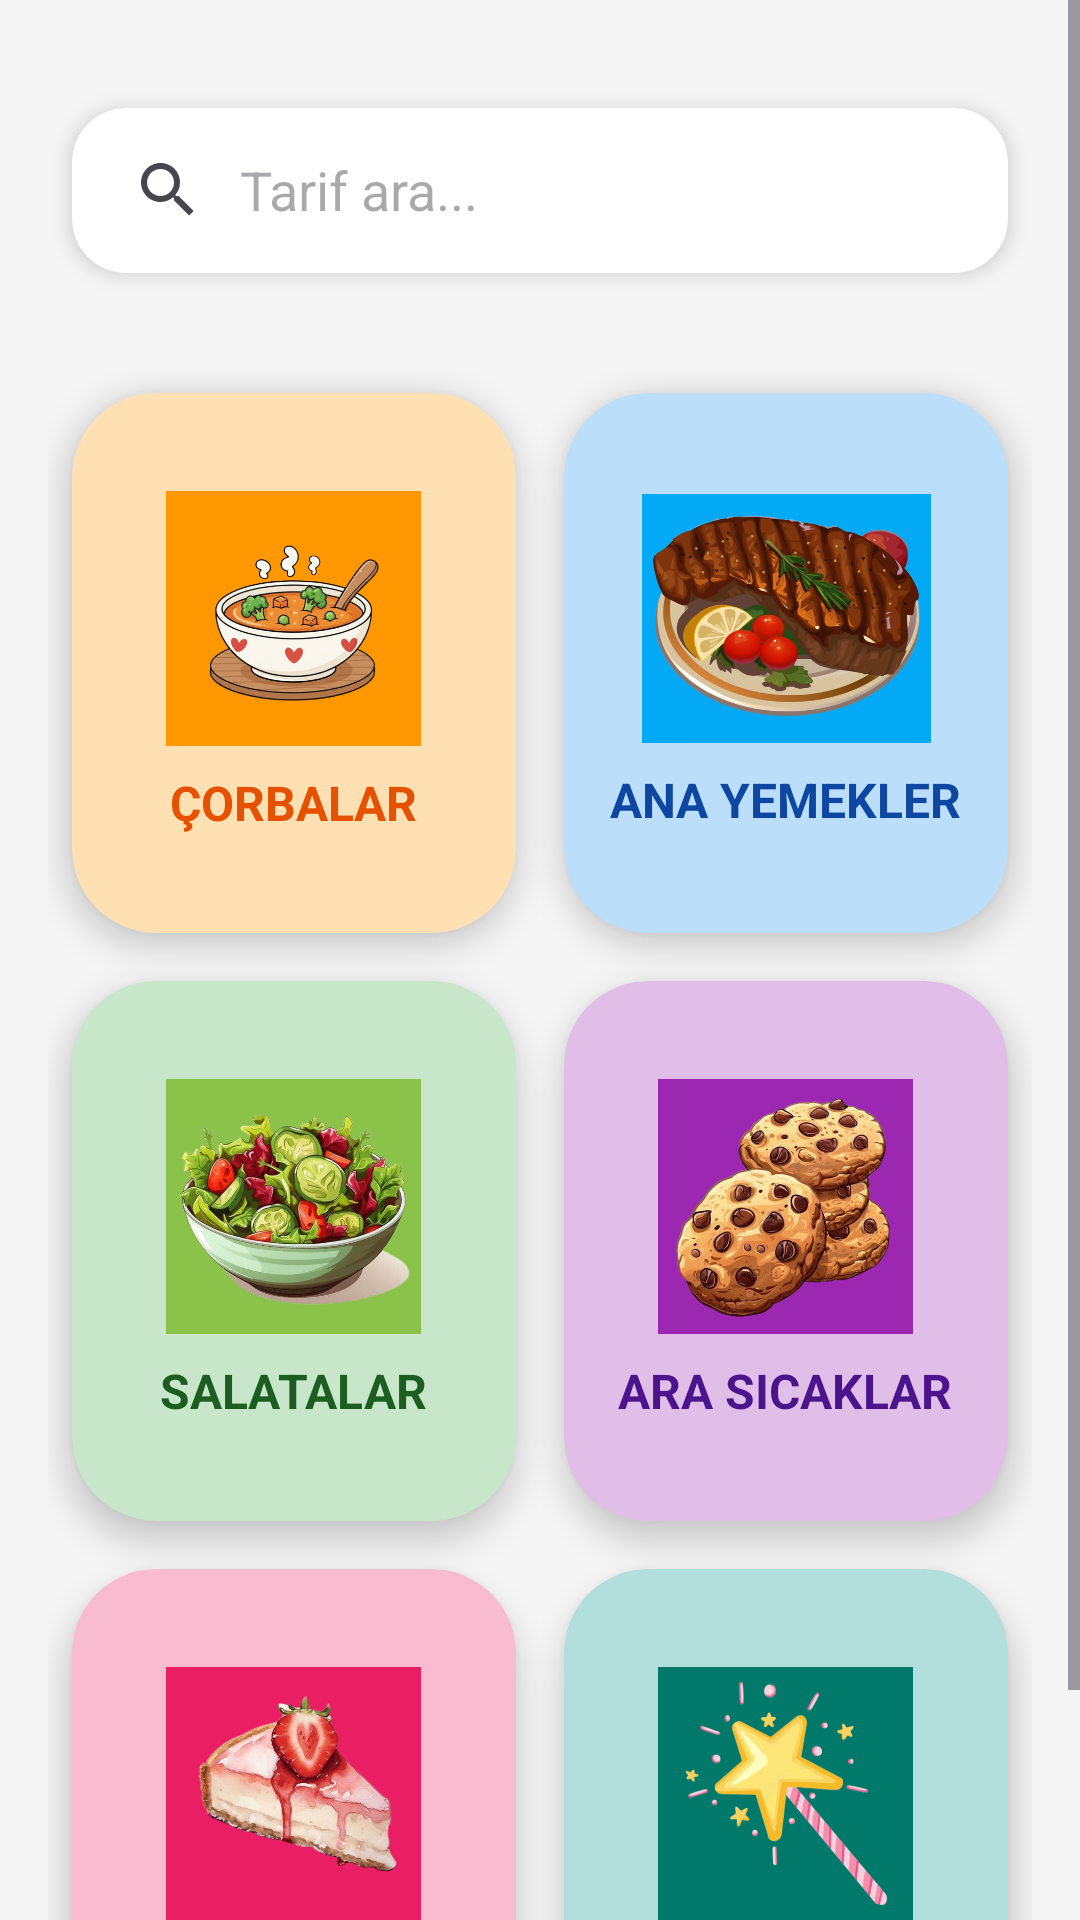

Icon click points for this 1080 x 1920 phone screenshot, format (x=x, y=y):
sihir: (x=785, y=1793)
tatli: (x=293, y=1793)
